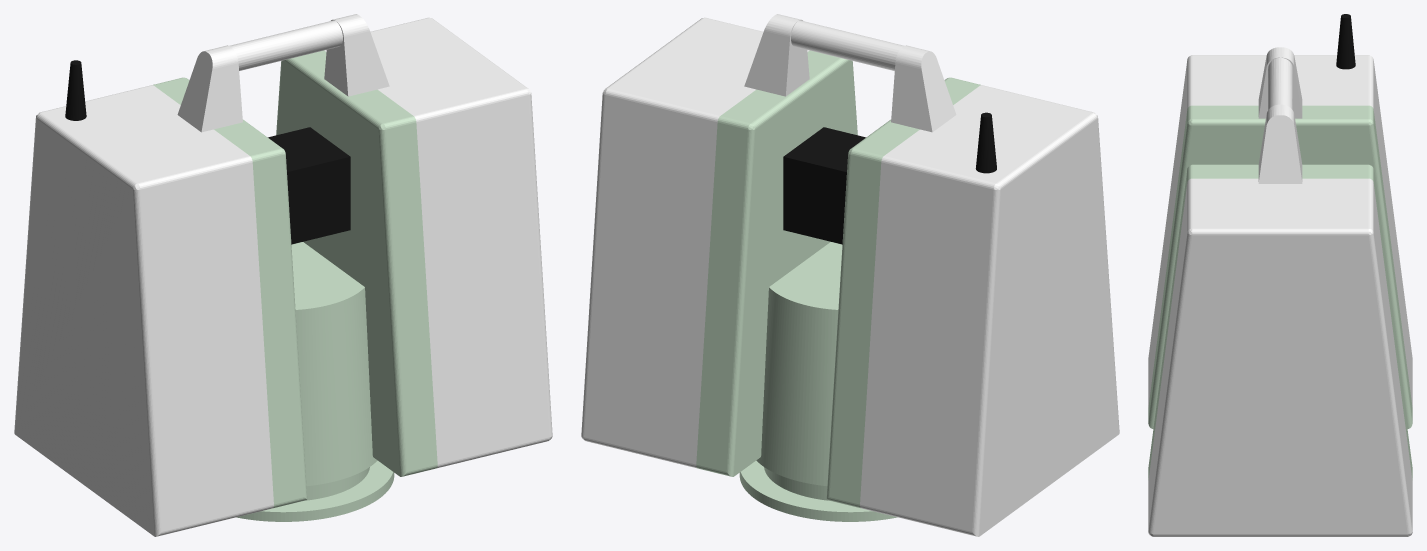
Rendered from scanstation_c5.dae.
The picture shows the model from 3 angles, left to right: view 1: azimuth 30°, elevation 25°; view 2: azimuth 150°, elevation 25°; view 3: azimuth 270°, elevation 25°; orthographic projection. The views are drawn at different scales.
Parts seen in each view (by area): view 1: right_body_gris, left_body_gris, left_body_verde, body_verde, right_body_verde, hand, camera, base, antena; view 2: right_body_gris, left_body_gris, left_body_verde, body_verde, right_body_verde, hand, camera, base, antena; view 3: left_body_gris, right_body_verde, right_body_gris, hand, left_body_verde, antena.
Part boxes in pixels (x1,y1,x2,y2): right_body_gris: (14, 85, 273, 536); left_body_gris: (324, 17, 552, 468); left_body_verde: (276, 50, 437, 476); body_verde: (291, 242, 377, 486); right_body_verde: (153, 77, 307, 508); hand: (177, 14, 389, 132); camera: (268, 127, 350, 244); base: (236, 460, 394, 521); antena: (65, 60, 86, 120); right_body_gris: (860, 85, 1119, 536); left_body_gris: (581, 17, 809, 468); left_body_verde: (696, 50, 857, 476); body_verde: (756, 242, 842, 486); right_body_verde: (826, 77, 980, 508); hand: (744, 14, 956, 132); camera: (783, 127, 865, 244); base: (739, 460, 897, 521); antena: (975, 112, 996, 173); left_body_gris: (1148, 178, 1412, 536); right_body_verde: (1148, 105, 1412, 428); right_body_gris: (1148, 55, 1412, 406); hand: (1258, 47, 1302, 183); left_body_verde: (1148, 164, 1412, 480); antena: (1336, 14, 1355, 69).
Bounding box in the file's own units: 340 × 214 × 360.
